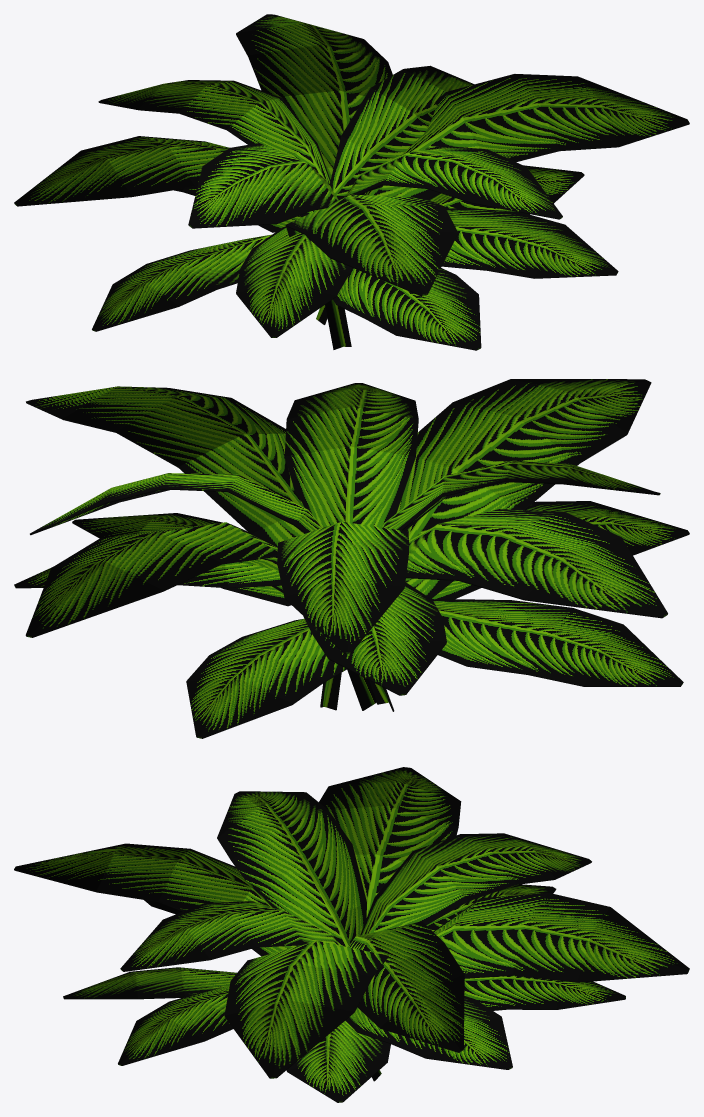
The model's file is Arbusto2.fbx.
The picture shows the model from 3 angles, top to bottom: view 1: azimuth 30°, elevation 25°; view 2: azimuth 150°, elevation 25°; view 3: azimuth 270°, elevation 25°; orthographic projection. The views are drawn at different scales.
Visible parts, largest first — view 1: Arbusto2; view 2: Arbusto2; view 3: Arbusto2.
Boxes of the visible parts, left/top/right/bottom form: Arbusto2: left=14, top=14, right=689, bottom=350; Arbusto2: left=14, top=379, right=689, bottom=738; Arbusto2: left=14, top=767, right=689, bottom=1102.
Size of the model in its own units: 80.74 by 28.4 by 78.21.
